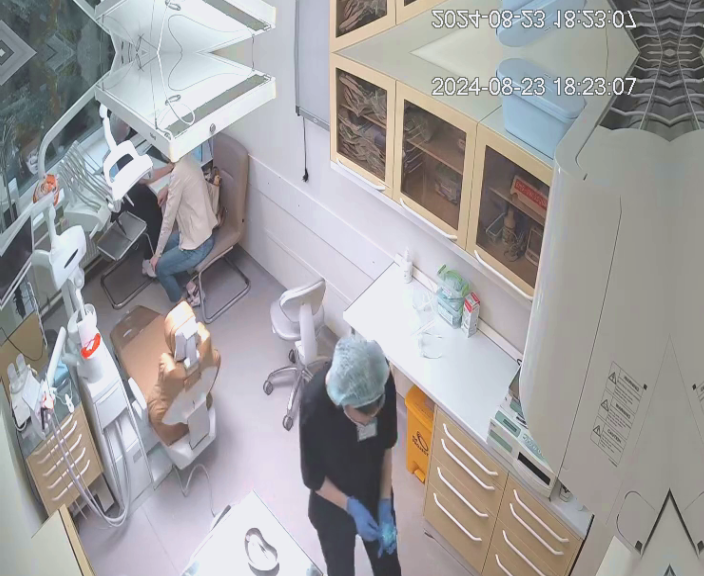Empty: (104, 303, 221, 467)
